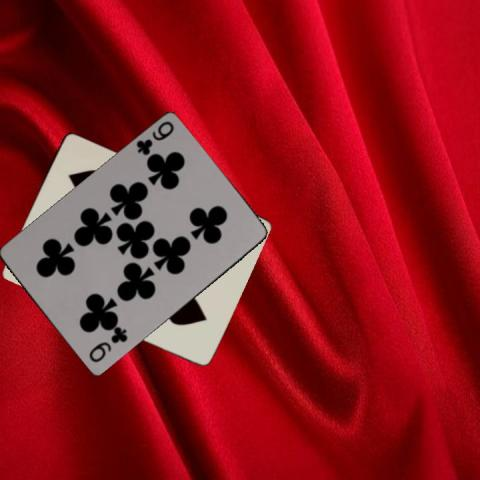9c: (86, 326, 130, 365), (133, 118, 175, 157)
